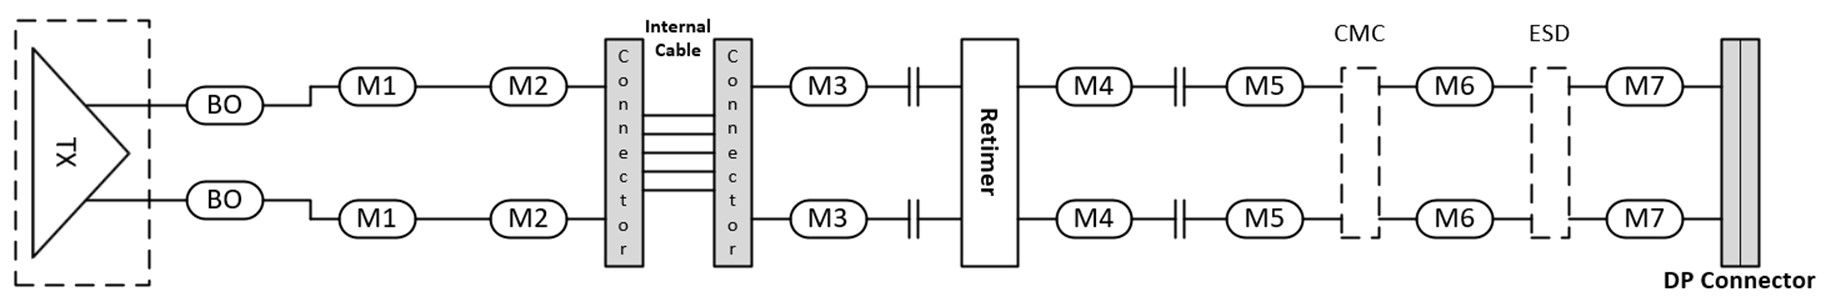capacitor: (898, 187, 928, 248), (1167, 194, 1196, 255), (900, 58, 930, 119), (1165, 55, 1195, 115)
dotted_rectangle: (1, 8, 162, 296), (1520, 57, 1588, 250), (1323, 51, 1391, 243)
oval: (180, 79, 267, 135), (334, 58, 422, 114), (330, 192, 418, 248), (483, 192, 571, 248), (784, 192, 871, 248), (1051, 191, 1139, 247), (1221, 194, 1309, 250), (1600, 58, 1687, 114), (1600, 188, 1687, 244), (182, 173, 269, 229), (482, 61, 569, 117), (782, 59, 869, 115), (1045, 59, 1132, 115), (1220, 58, 1307, 114), (1409, 56, 1496, 112), (1407, 188, 1494, 244)
rectangle: (956, 22, 1023, 276), (596, 33, 650, 278), (1712, 29, 1767, 272), (705, 35, 759, 280)
triangle: (21, 38, 135, 268)
